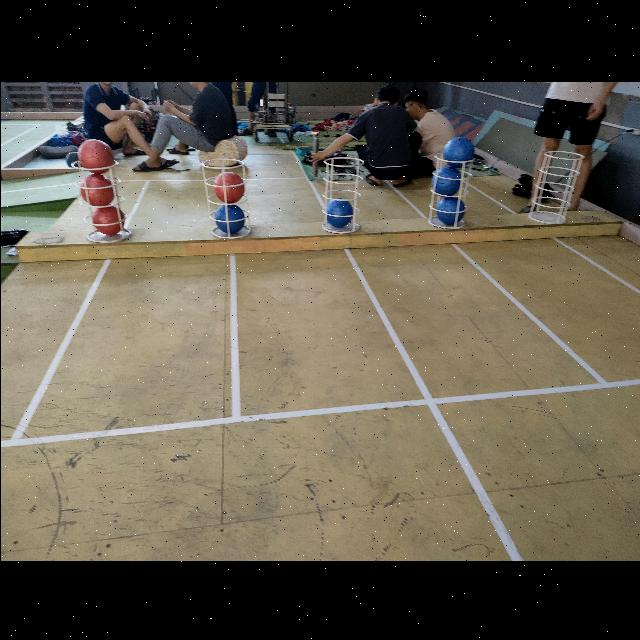B: (442, 136, 473, 166), (214, 203, 244, 233), (430, 166, 460, 194), (324, 197, 352, 226), (436, 195, 464, 223)
R: (76, 138, 114, 172), (80, 172, 114, 204), (214, 170, 244, 202), (91, 206, 123, 234)
